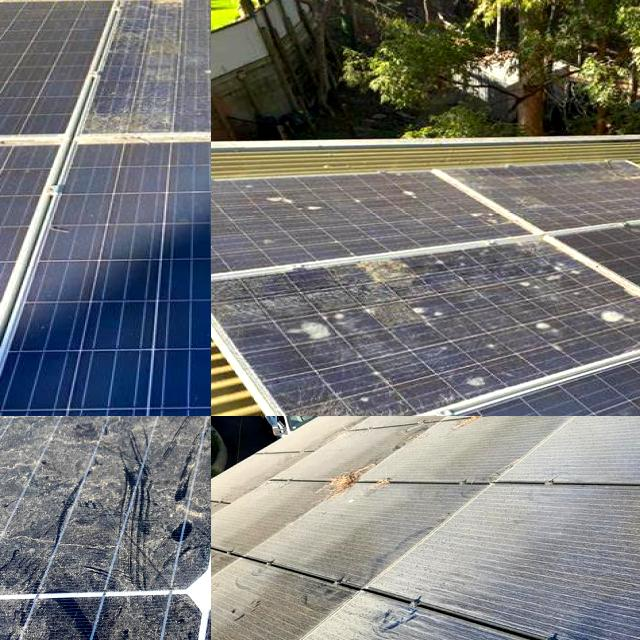bird: (242, 180, 366, 222), (89, 89, 186, 137), (481, 258, 588, 300), (98, 47, 196, 87), (344, 246, 426, 286), (284, 298, 344, 350), (117, 0, 207, 32), (463, 198, 536, 234), (594, 286, 628, 342), (374, 169, 432, 201), (445, 368, 492, 397), (508, 312, 559, 338), (406, 304, 449, 332), (313, 396, 358, 416), (211, 200, 226, 236)
dust: (0, 416, 207, 589), (481, 489, 640, 597), (287, 490, 437, 570), (68, 416, 211, 477), (211, 586, 335, 640), (404, 419, 512, 477), (382, 416, 506, 449), (572, 416, 640, 471), (545, 416, 640, 452), (211, 500, 257, 571), (0, 416, 39, 479)
